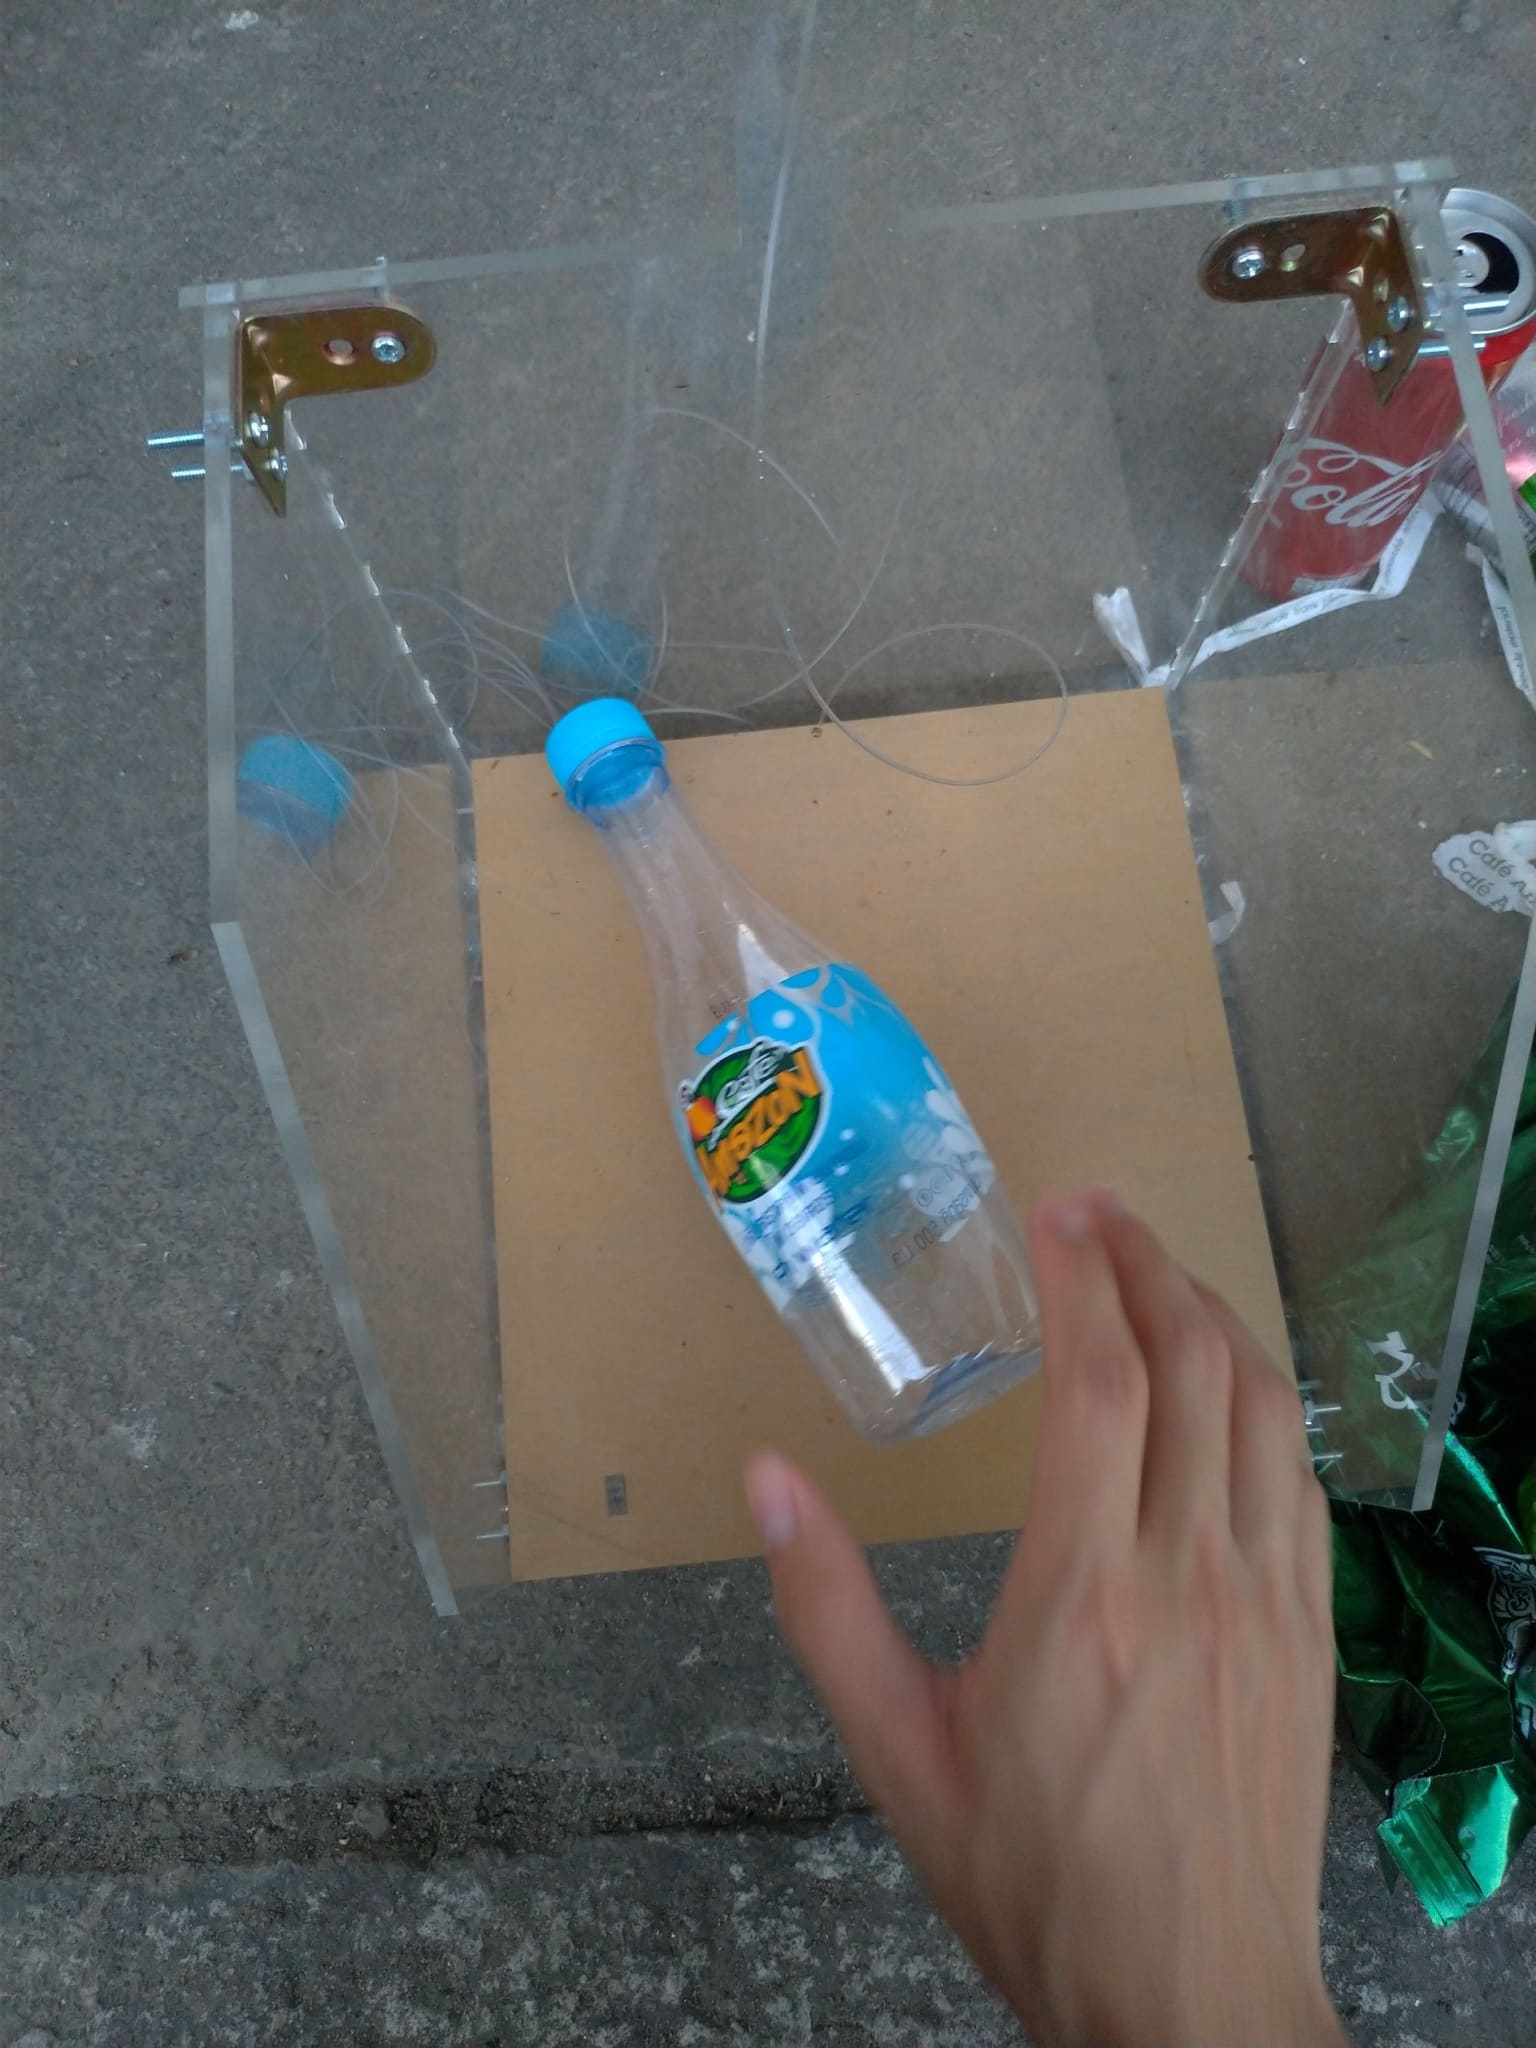AlCan: (1234, 192, 1513, 618)
Others: (1297, 1018, 1521, 1958)
PlasticBottle: (547, 692, 1037, 1430)
